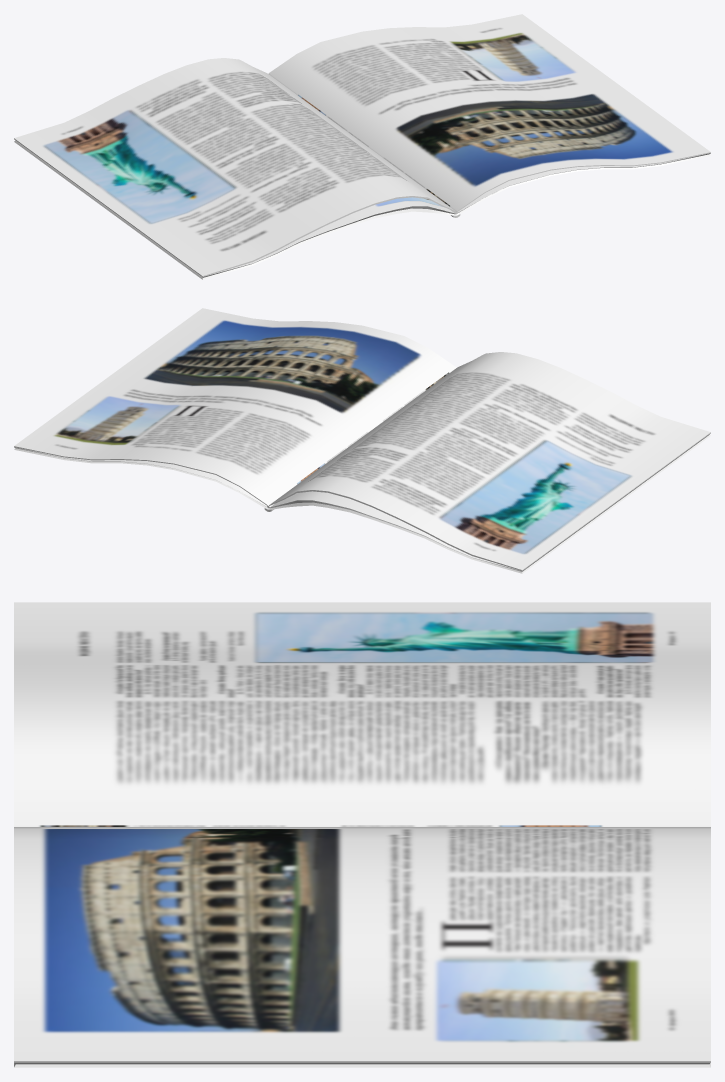
The model's file is Magazine.FBX.
3 renders of one model, top to bottom at view 1: azimuth 30°, elevation 25°; view 2: azimuth 150°, elevation 25°; view 3: azimuth 270°, elevation 25°, orthographic. The views are drawn at different scales.
Visible parts, largest first — view 1: magazine; view 2: magazine; view 3: magazine.
Boxes of the visible parts, x1,y1,x2,y2 form: magazine: [14, 14, 710, 279]; magazine: [14, 308, 710, 573]; magazine: [14, 602, 710, 1067].
Bounding box in the file's own units: 43.6 × 28 × 2.88.
1 material, 1 textured.
